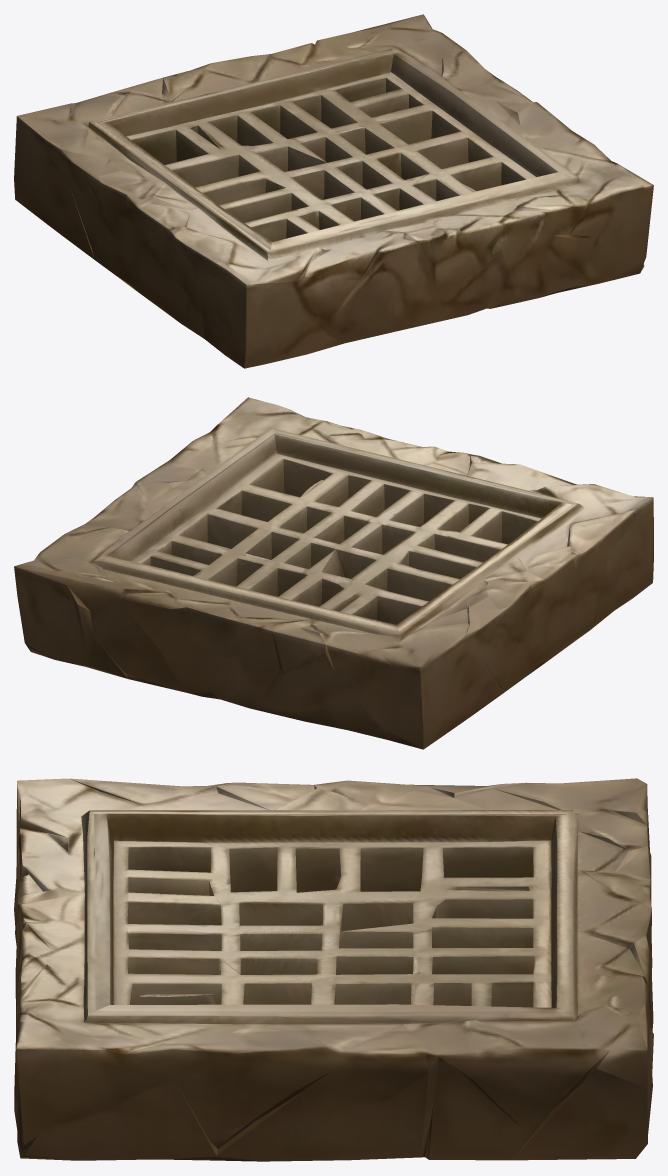
File: m2AirVent.glb
The picture shows the model from 3 angles, top to bottom: view 1: azimuth 30°, elevation 25°; view 2: azimuth 150°, elevation 25°; view 3: azimuth 270°, elevation 25°; orthographic projection. The views are drawn at different scales.
Visible parts, largest first — view 1: model; view 2: model; view 3: model.
Part boxes in pixels (<box>): model: <box>14,14,653,368</box>; model: <box>14,397,653,749</box>; model: <box>14,778,653,1161</box>.
Size of the model in its own units: 1.89 by 0.401 by 1.88.
1 material, 1 textured.
